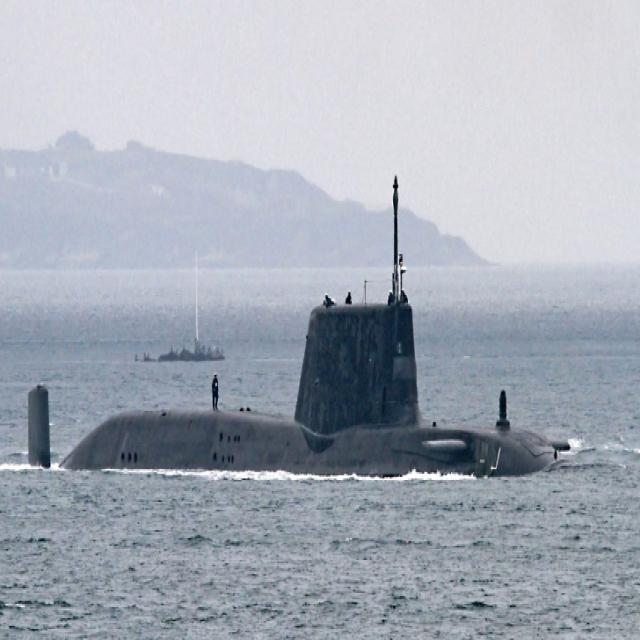submarine: (15, 150, 577, 470)
